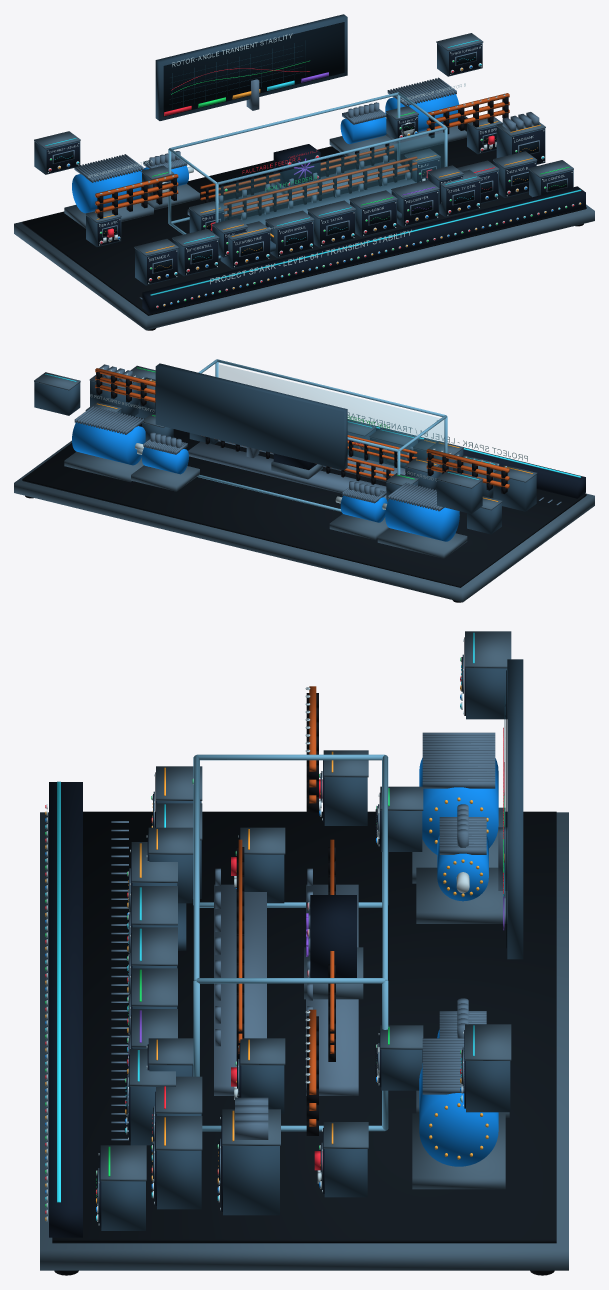
Rendered from Level64_Complete_ArtKit_Showcase.fbx.
The picture shows the model from 3 angles, top to bottom: view 1: azimuth 30°, elevation 25°; view 2: azimuth 150°, elevation 25°; view 3: azimuth 270°, elevation 25°; orthographic projection. The views are drawn at different scales.
Parts seen in each view (by area): view 1: L64_IndustrialTransientStabilityBase__GraphiteMachinedWorkto, L64_IndustrialTransientStabilityBase__FrontConsole, L64_TransparentSafetyEnclosure__SafetyTransparentDoor, L64_IndustrialTransientStabilityBase__CNCPrecisionDeck, L64_HolographicStabilityMonitor__MonitorScreen, L64_HolographicStabilityMonitor__MonitorOuterFrame, L64_SynchrophasorMeasurementUnitA__SynchrophasorMeasurementU (×3), L64_SynchronousGeneratorA__SynchronousGeneratorABody, L64_SynchrophasorMeasurementUnitB__SynchrophasorMeasurementU (×3), L64_TransmissionFeederA__FeederRail, L64_FaultInjectionChamber__FaultEnclosure, L64_GeneratorExcitationController__GeneratorExcitationContro (×2) (+36 smaller); view 2: L64_IndustrialTransientStabilityBase__GraphiteMachinedWorkto, L64_HolographicStabilityMonitor__MonitorOuterFrame, L64_IndustrialTransientStabilityBase__CNCPrecisionDeck, L64_TransparentSafetyEnclosure__SafetyTransparentDoor, L64_TransmissionFeederA__FeederRail, L64_SynchronousGeneratorA__SynchronousGeneratorABody, L64_SynchronousGeneratorB__SynchronousGeneratorBBody, L64_IndustrialTransientStabilityBase__FrontConsole, L64_SynchrophasorMeasurementUnitB__SynchrophasorMeasurementU (×2), L64_SynchrophasorMeasurementUnitA__SynchrophasorMeasurementU (×2), L64_SynchronousGeneratorA__SynchronousGeneratorAFoundation, L64_SynchronousGeneratorB__SynchronousGeneratorBFoundation (+23 smaller); view 3: L64_IndustrialTransientStabilityBase__GraphiteMachinedWorkto, L64_IndustrialTransientStabilityBase__CNCPrecisionDeck, L64_IndustrialTransientStabilityBase__FrontConsole, L64_TransmissionFeederB__FeederRail, L64_HolographicStabilityMonitor__MonitorOuterFrame, L64_SynchronousGeneratorB__SynchronousGeneratorBBody, L64_TransmissionFeederA__FeederRail, L64_SynchrophasorMeasurementUnitB__SynchrophasorMeasurementU (×2), L64_IndustrialLoadBank__IndustrialLoadBankBody, L64_SynchrophasorMeasurementUnitA__SynchrophasorMeasurementU (×2), L64_FaultInjectionChamber__FaultEnclosure, L64_SynchronousGeneratorB__SynchronousGeneratorBFoundation (+43 smaller).
Boxes of the visible parts, <box> form: L64_IndustrialTransientStabilityBase__GraphiteMachinedWorkto: <box>22,118,586,315</box>; L64_IndustrialTransientStabilityBase__FrontConsole: <box>142,186,585,313</box>; L64_TransparentSafetyEnclosure__SafetyTransparentDoor: <box>219,132,443,255</box>; L64_IndustrialTransientStabilityBase__CNCPrecisionDeck: <box>14,116,594,330</box>; L64_HolographicStabilityMonitor__MonitorScreen: <box>163,22,344,116</box>; L64_HolographicStabilityMonitor__MonitorOuterFrame: <box>155,14,347,120</box>; L64_SynchrophasorMeasurementUnitA__SynchrophasorMeasurementU (×3): <box>34,131,80,174</box>; L64_SynchronousGeneratorA__SynchronousGeneratorABody: <box>72,170,141,213</box>; L64_SynchrophasorMeasurementUnitB__SynchrophasorMeasurementU (×3): <box>436,33,483,76</box>; L64_TransmissionFeederA__FeederRail: <box>187,159,405,218</box>; L64_FaultInjectionChamber__FaultEnclosure: <box>273,144,320,187</box>; L64_GeneratorExcitationController__GeneratorExcitationContro (×2): <box>307,200,355,246</box>; L64_IndustrialTransientStabilityBase__GraphiteMachinedWorkto: <box>22,416,586,587</box>; L64_HolographicStabilityMonitor__MonitorOuterFrame: <box>155,363,347,470</box>; L64_IndustrialTransientStabilityBase__CNCPrecisionDeck: <box>14,440,594,602</box>; L64_TransparentSafetyEnclosure__SafetyTransparentDoor: <box>219,364,443,474</box>; L64_TransmissionFeederA__FeederRail: <box>188,441,386,498</box>; L64_SynchronousGeneratorA__SynchronousGeneratorABody: <box>385,498,459,541</box>; L64_SynchronousGeneratorB__SynchronousGeneratorBBody: <box>72,422,145,465</box>; L64_IndustrialTransientStabilityBase__FrontConsole: <box>348,419,585,498</box>; L64_SynchrophasorMeasurementUnitB__SynchrophasorMeasurementU (×2): <box>34,372,80,415</box>; L64_SynchrophasorMeasurementUnitA__SynchrophasorMeasurementU (×2): <box>436,470,483,513</box>; L64_SynchronousGeneratorA__SynchronousGeneratorAFoundation: <box>377,528,467,558</box>; L64_SynchronousGeneratorB__SynchronousGeneratorBFoundation: <box>64,451,143,482</box>; L64_IndustrialTransientStabilityBase__GraphiteMachinedWorkto: <box>52,811,556,1243</box>; L64_IndustrialTransientStabilityBase__CNCPrecisionDeck: <box>40,812,568,1270</box>; L64_IndustrialTransientStabilityBase__FrontConsole: <box>49,782,82,1237</box>; L64_TransmissionFeederB__FeederRail: <box>214,884,266,1095</box>; L64_HolographicStabilityMonitor__MonitorOuterFrame: <box>507,659,523,959</box>; L64_SynchronousGeneratorB__SynchronousGeneratorBBody: <box>419,1063,498,1166</box>; L64_TransmissionFeederA__FeederRail: <box>306,884,358,1095</box>; L64_SynchrophasorMeasurementUnitB__SynchrophasorMeasurementU (×2): <box>465,1024,511,1112</box>; L64_IndustrialLoadBank__IndustrialLoadBankBody: <box>223,1146,279,1215</box>; L64_SynchrophasorMeasurementUnitA__SynchrophasorMeasurementU (×2): <box>465,631,511,719</box>; L64_FaultInjectionChamber__FaultEnclosure: <box>310,895,356,977</box>; L64_SynchronousGeneratorB__SynchronousGeneratorBFoundation: <box>412,1113,505,1189</box>.
Bounding box in the file's own units: 14.9 × 4.92 × 7.6.
